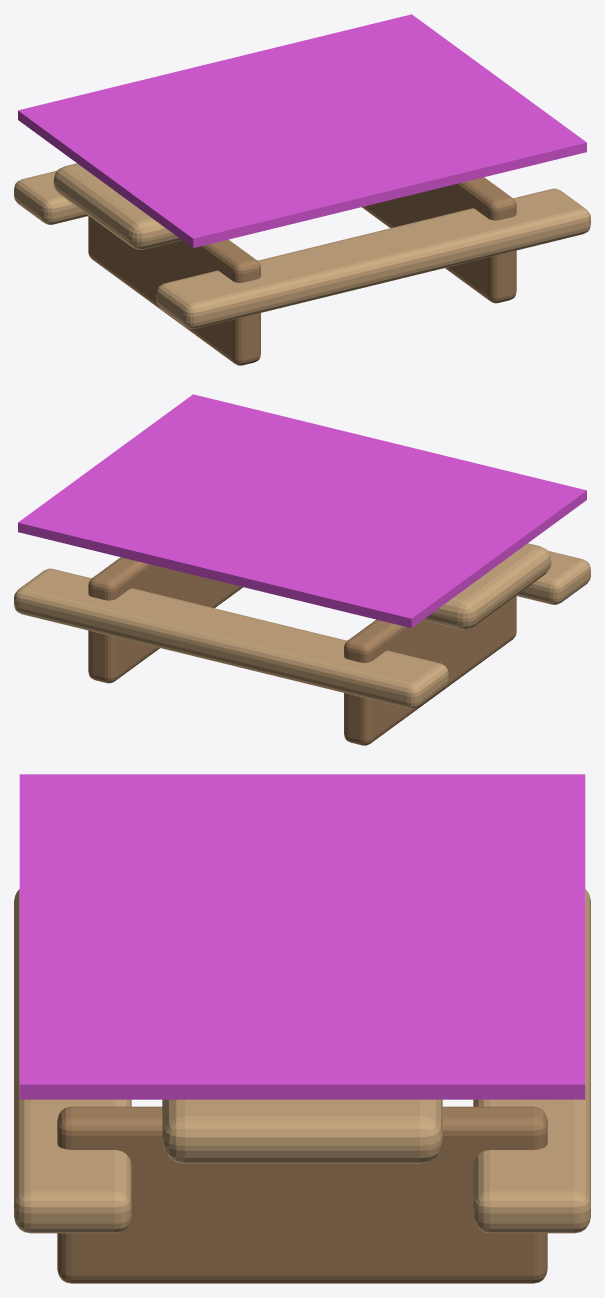
The model's file is picnic_table_lod0_v1.glb.
3 views of the same model, one above another, from view 1: azimuth 30°, elevation 25°; view 2: azimuth 150°, elevation 25°; view 3: azimuth 270°, elevation 25° (orthographic). The views are drawn at different scales.
Parts seen in each view (by area): view 1: NAV_MASK_PICNIC_TABLE, LOD0_PICNIC_TABLE_Bench, LOD0_PICNIC_TABLE_Leg, LOD0_PICNIC_TABLE_Leg.001, LOD0_PICNIC_TABLE_Top, LOD0_PICNIC_TABLE_Bench.001; view 2: NAV_MASK_PICNIC_TABLE, LOD0_PICNIC_TABLE_Bench.001, LOD0_PICNIC_TABLE_Leg, LOD0_PICNIC_TABLE_Leg.001, LOD0_PICNIC_TABLE_Top, LOD0_PICNIC_TABLE_Bench; view 3: NAV_MASK_PICNIC_TABLE, LOD0_PICNIC_TABLE_Leg.001, LOD0_PICNIC_TABLE_Top, LOD0_PICNIC_TABLE_Bench, LOD0_PICNIC_TABLE_Bench.001.
Part boxes in pixels (<box>): NAV_MASK_PICNIC_TABLE: <box>18,14,586,247</box>; LOD0_PICNIC_TABLE_Bench: <box>156,188,590,328</box>; LOD0_PICNIC_TABLE_Leg: <box>88,216,260,365</box>; LOD0_PICNIC_TABLE_Leg.001: <box>362,177,516,303</box>; LOD0_PICNIC_TABLE_Top: <box>53,163,181,249</box>; LOD0_PICNIC_TABLE_Bench.001: <box>14,170,88,224</box>; NAV_MASK_PICNIC_TABLE: <box>18,394,586,627</box>; LOD0_PICNIC_TABLE_Bench.001: <box>14,568,448,708</box>; LOD0_PICNIC_TABLE_Leg: <box>344,596,516,745</box>; LOD0_PICNIC_TABLE_Leg.001: <box>88,557,242,683</box>; LOD0_PICNIC_TABLE_Top: <box>423,543,551,629</box>; LOD0_PICNIC_TABLE_Bench: <box>516,550,590,604</box>; NAV_MASK_PICNIC_TABLE: <box>19,774,585,1099</box>; LOD0_PICNIC_TABLE_Leg.001: <box>57,1106,547,1283</box>; LOD0_PICNIC_TABLE_Top: <box>162,1099,442,1163</box>; LOD0_PICNIC_TABLE_Bench: <box>14,889,131,1233</box>; LOD0_PICNIC_TABLE_Bench.001: <box>473,889,590,1233</box>.
Size of what is drawn, in the model's own units: 2.8 by 0.975 by 2.06.
